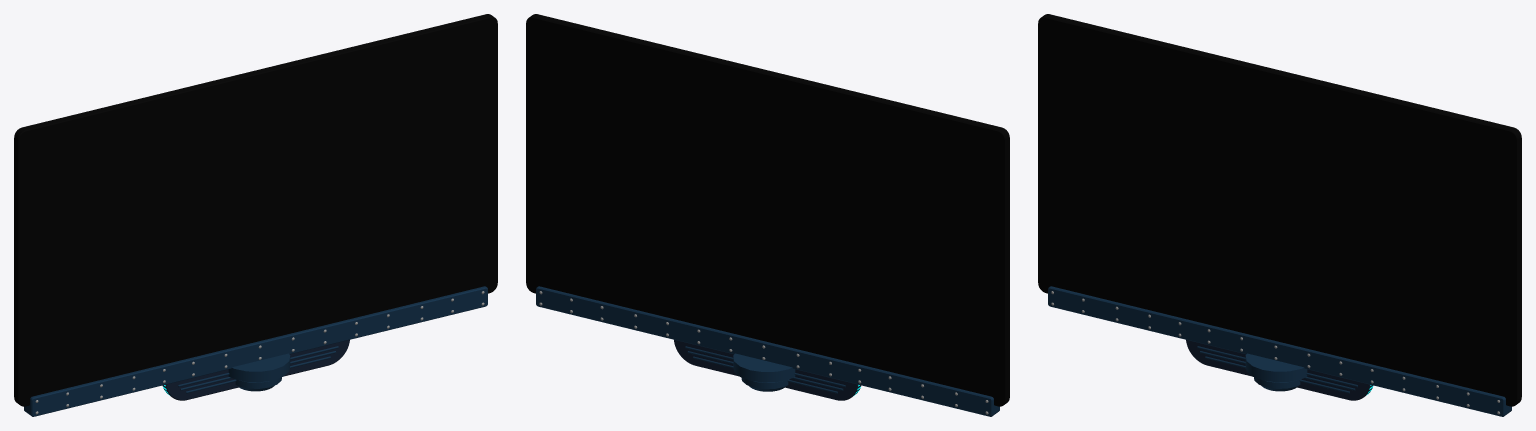
The model's file is Info_sreen.fbx.
3 renders of one model, left to right at view 1: azimuth 30°, elevation 25°; view 2: azimuth 150°, elevation 25°; view 3: azimuth 330°, elevation 25°, orthographic.
Visible parts, largest first — view 1: Extrude_2, Extrude_1, Extrude, Cylinder_5; view 2: Extrude_2, Extrude_1, Extrude, Cylinder_5; view 3: Extrude_2, Extrude_1, Extrude, Cylinder_5.
Boxes of the visible parts, x1,y1,x2,y2 form: Extrude_2: (14, 14, 497, 406); Extrude_1: (24, 286, 487, 416); Extrude: (162, 340, 349, 400); Cylinder_5: (228, 353, 290, 382); Extrude_2: (526, 14, 1009, 406); Extrude_1: (536, 286, 999, 416); Extrude: (674, 340, 861, 400); Cylinder_5: (733, 353, 795, 382); Extrude_2: (1038, 14, 1521, 406); Extrude_1: (1048, 286, 1511, 416); Extrude: (1186, 340, 1373, 400); Cylinder_5: (1245, 353, 1307, 382).
Size of the model in its own units: 600 by 376 by 75.37.
